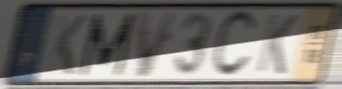3: (172, 11, 214, 79)
C: (208, 8, 259, 81)
K: (42, 12, 89, 78), (254, 12, 300, 77)
M: (78, 11, 138, 78)
V: (136, 8, 180, 80)
